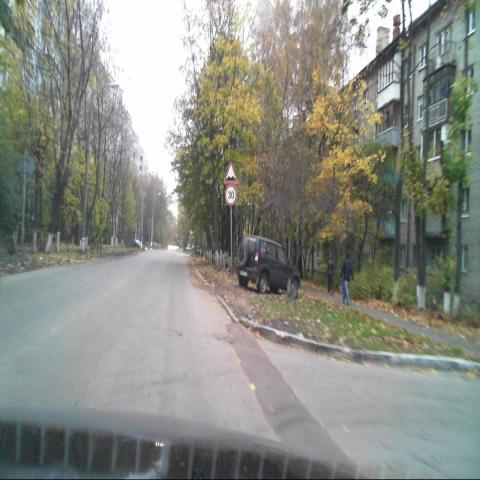1_16: (224, 162, 237, 184)
